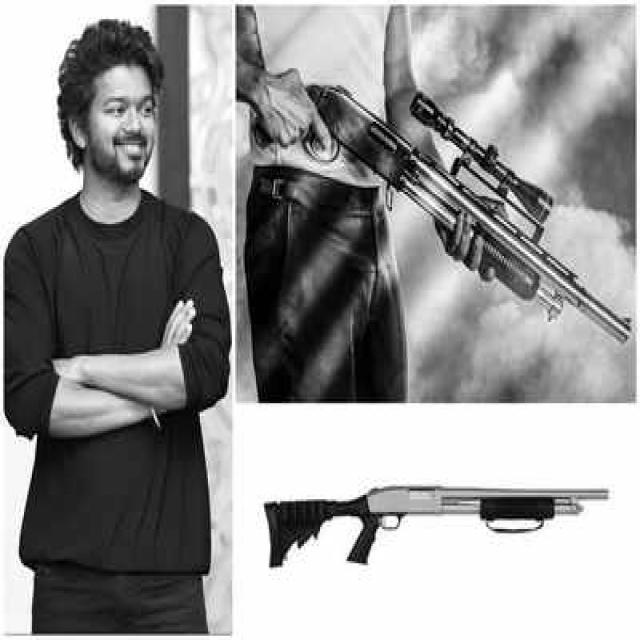Short-Gun: (316, 17, 636, 356), (256, 466, 621, 594)
